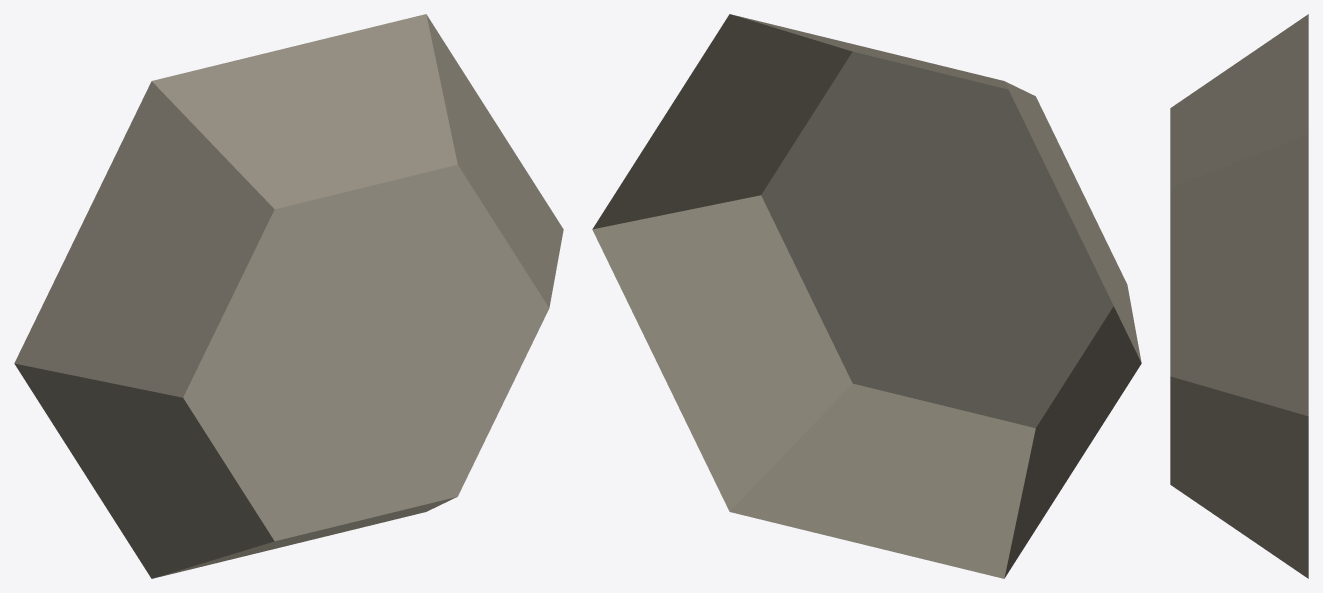
The model's file is head_cap.obj.
The picture shows the model from 3 angles, left to right: view 1: azimuth 30°, elevation 25°; view 2: azimuth 150°, elevation 25°; view 3: azimuth 270°, elevation 25°; orthographic projection. The views are drawn at different scales.
Visible parts, largest first — view 1: head_cap; view 2: head_cap; view 3: head_cap.
Boxes of the visible parts, left/top/right/bottom form: head_cap: left=14, top=14, right=563, bottom=578; head_cap: left=592, top=14, right=1141, bottom=578; head_cap: left=1170, top=14, right=1308, bottom=578.
Bounding box in the file's own units: 1.56 × 1.35 × 0.38.
